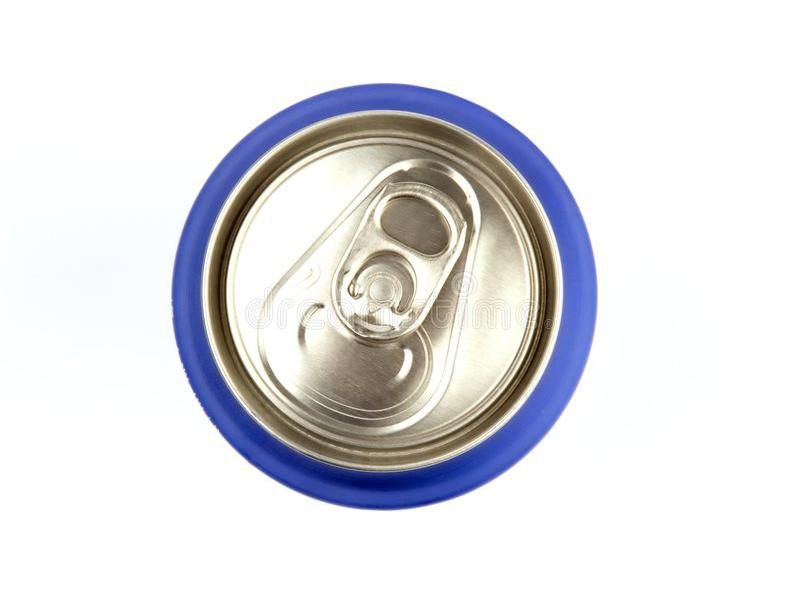can: (171, 83, 599, 512)
